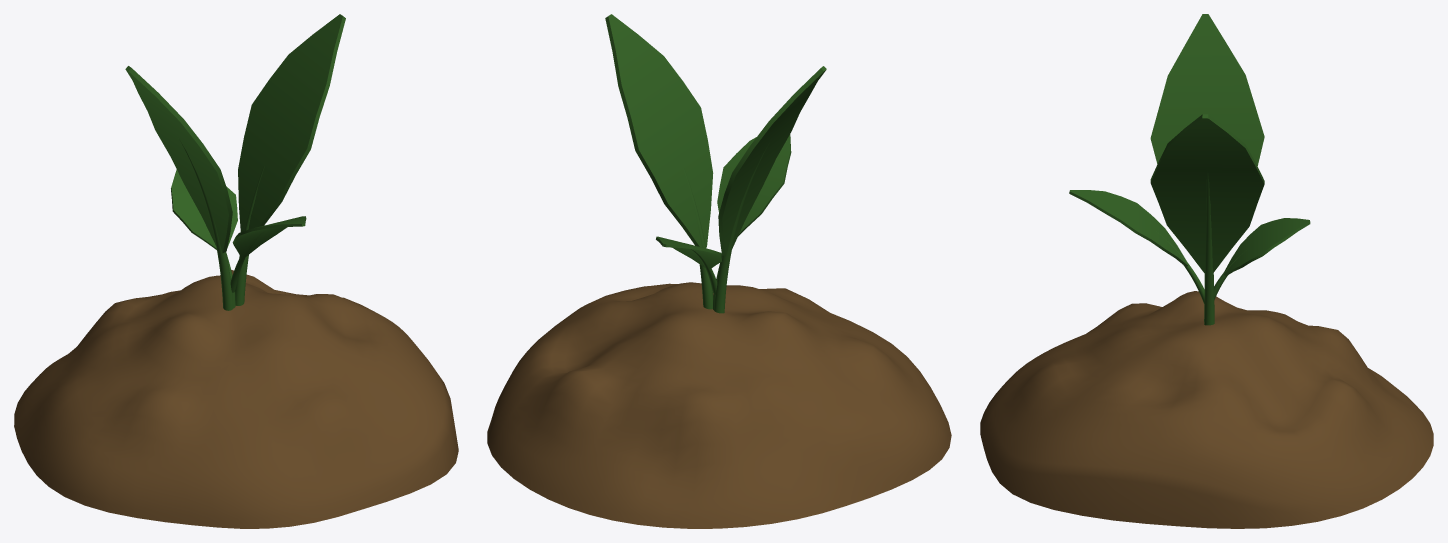
The model's file is CARROT_vegetation.fbx.
3 renders of one model, left to right at view 1: azimuth 30°, elevation 25°; view 2: azimuth 150°, elevation 25°; view 3: azimuth 270°, elevation 25°, orthographic. The views are drawn at different scales.
Visible parts, largest first — view 1: pCube39; view 2: pCube39; view 3: pCube39.
Boxes of the visible parts, x1=… form: pCube39: x1=14, y1=14, x2=458, y2=528; pCube39: x1=487, y1=14, x2=951, y2=528; pCube39: x1=980, y1=14, x2=1433, y2=528.
Bounding box in the file's own units: 0.936 × 0.9025 × 0.9833.
